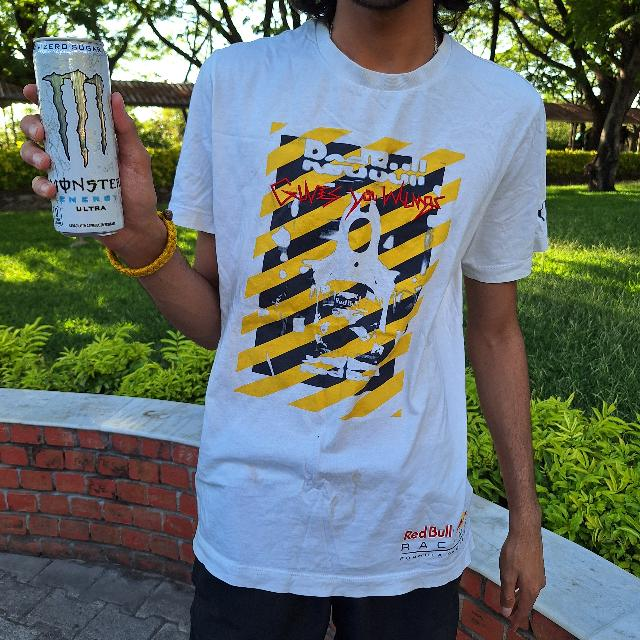White Monster: (26, 31, 130, 239)
